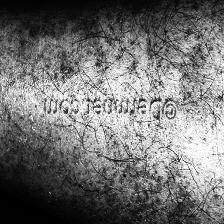Non-Cancerous Skin Condition: (180, 64, 204, 124)
